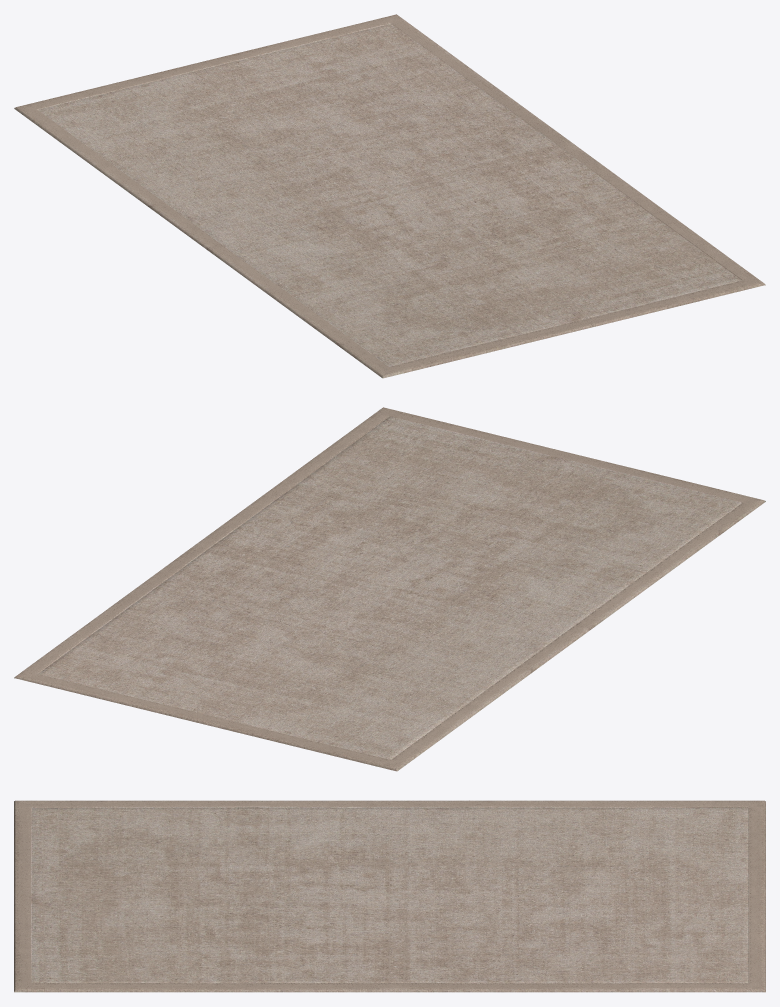
Rendered from sahara-luxe-300x500.glb.
3 renders of one model, top to bottom at view 1: azimuth 30°, elevation 25°; view 2: azimuth 150°, elevation 25°; view 3: azimuth 270°, elevation 25°, orthographic.
Parts seen in each view (by area): view 1: rug; view 2: rug; view 3: rug.
Part boxes in pixels (bbox=[...]): rug: bbox=[14, 14, 765, 378]; rug: bbox=[14, 407, 765, 771]; rug: bbox=[14, 800, 765, 992].
Size of the model in its own units: 3 by 0.0214 by 5.
Materials: 98 (96 with a texture image).
